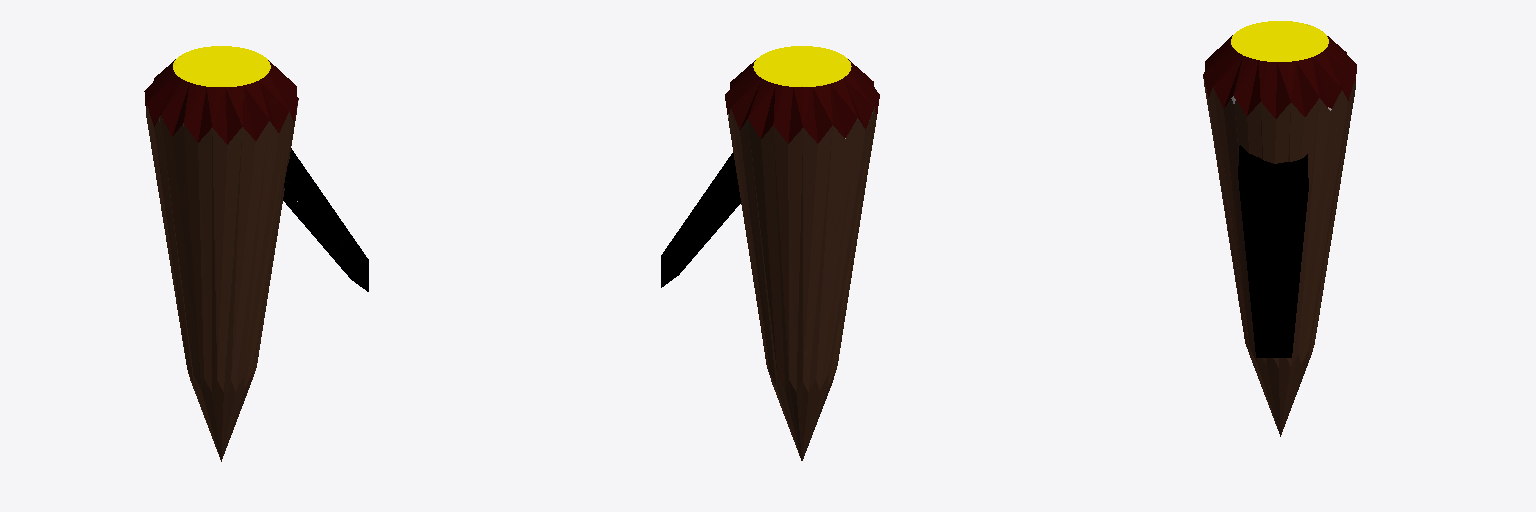
3 renders of one model, left to right at view 1: azimuth 30°, elevation 25°; view 2: azimuth 150°, elevation 25°; view 3: azimuth 270°, elevation 25°, orthographic.
Parts seen in each view (by area): view 1: cone2_sep7, cone2_sep8; view 2: cone2_sep7, cone2_sep8; view 3: cone2_sep7, cone2_sep8.
Part boxes in pixels (bbox=[...]): cone2_sep7: bbox=[144, 46, 298, 461]; cone2_sep8: bbox=[283, 148, 368, 291]; cone2_sep7: bbox=[725, 46, 879, 460]; cone2_sep8: bbox=[661, 153, 740, 287]; cone2_sep7: bbox=[1203, 21, 1356, 436]; cone2_sep8: bbox=[1238, 145, 1308, 357].
Size of the model in its own units: 0.4353 by 0.8139 by 0.2873.
Materials: 2 (1 with a texture image).